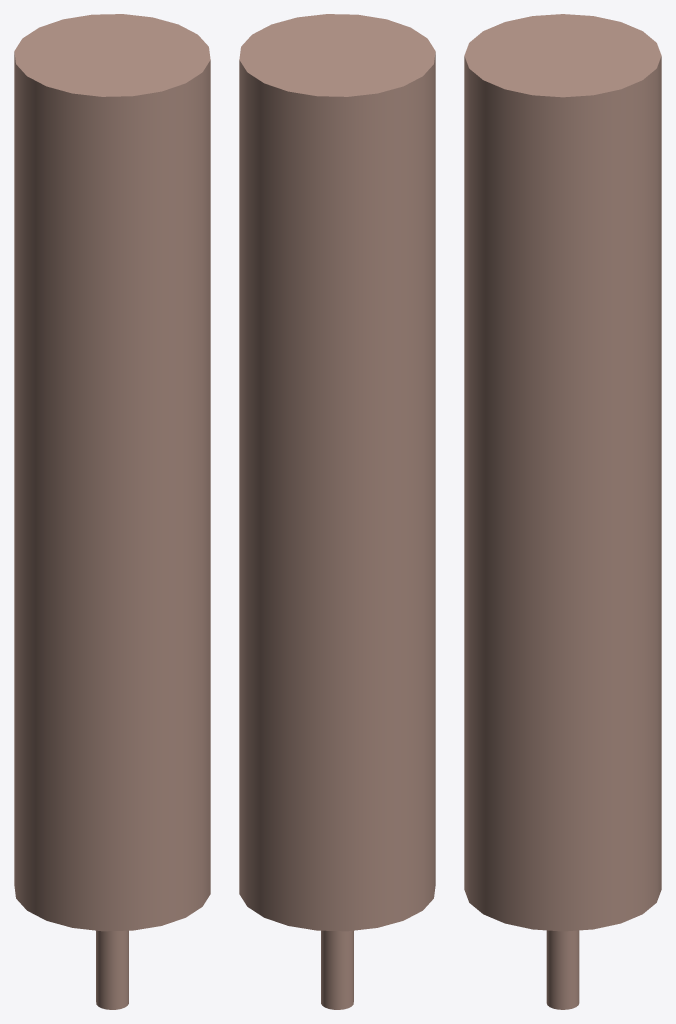
File: TallTree_PH.fbx
3 renders of one model, left to right at view 1: azimuth 30°, elevation 25°; view 2: azimuth 150°, elevation 25°; view 3: azimuth 270°, elevation 25°, orthographic.
Visible parts, largest first — view 1: Tree__1_, Tree; view 2: Tree__1_, Tree; view 3: Tree__1_, Tree.
Boxes of the visible parts, left/top/right/bottom form: Tree__1_: left=14, top=14, right=210, bottom=931; Tree: left=96, top=930, right=128, bottom=1009; Tree__1_: left=239, top=14, right=435, bottom=931; Tree: left=321, top=930, right=353, bottom=1009; Tree__1_: left=464, top=14, right=661, bottom=931; Tree: left=546, top=930, right=579, bottom=1009.
Bounding box in the file's own units: 150 × 795 × 150.
